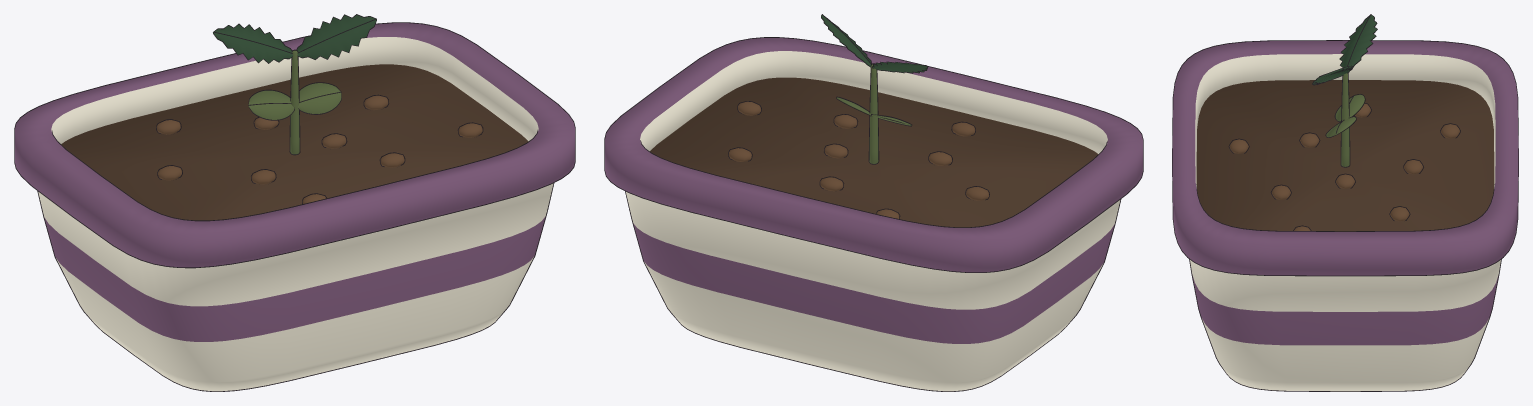
The model's file is cannabis_pourpre_seedling_toon.glb.
The picture shows the model from 3 angles, left to right: view 1: azimuth 30°, elevation 25°; view 2: azimuth 150°, elevation 25°; view 3: azimuth 270°, elevation 25°; orthographic projection. The views are drawn at different scales.
Parts seen in each view (by area): view 1: cannabis_pourpre_seedling_Geometry; view 2: cannabis_pourpre_seedling_Geometry; view 3: cannabis_pourpre_seedling_Geometry.
Boxes of the visible parts, x1,y1,x2,y2 form: cannabis_pourpre_seedling_Geometry: [14, 14, 575, 391]; cannabis_pourpre_seedling_Geometry: [604, 14, 1143, 391]; cannabis_pourpre_seedling_Geometry: [1172, 14, 1518, 391].
Bounding box in the file's own units: 0.4912 × 0.3051 × 0.3512.
